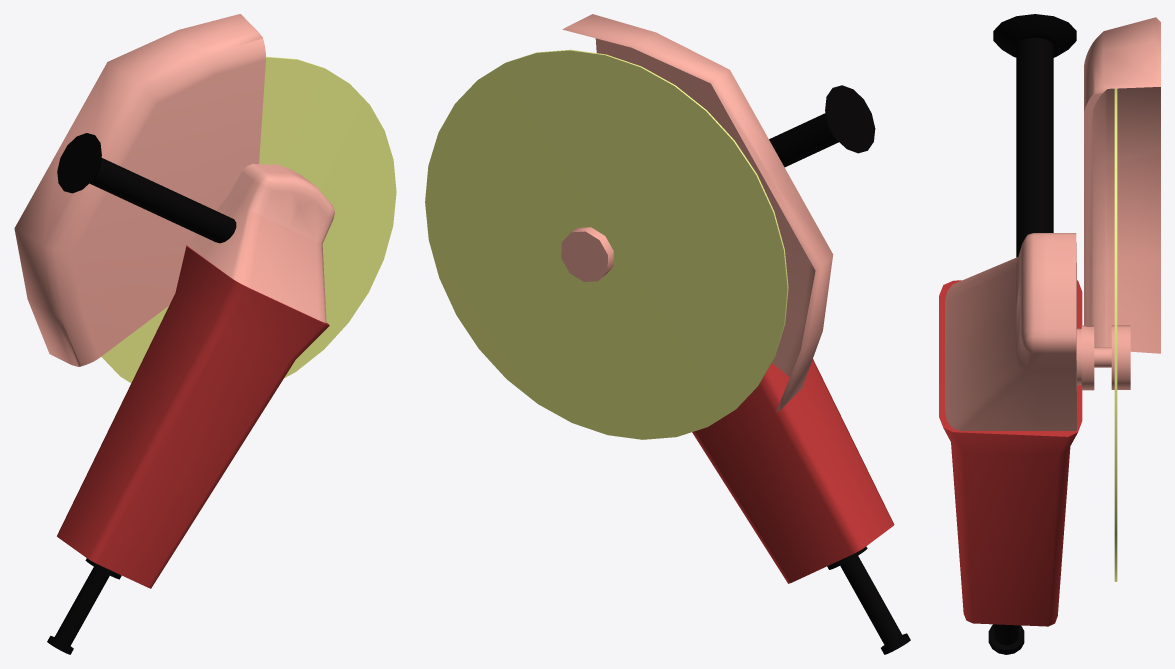
File: kesme mak animasyonlu.fbx
The picture shows the model from 3 angles, left to right: view 1: azimuth 30°, elevation 25°; view 2: azimuth 150°, elevation 25°; view 3: azimuth 270°, elevation 25°; orthographic projection. The views are drawn at different scales.
Visible parts, largest first — view 1: kesme makine.003; view 2: kesme makine.003; view 3: kesme makine.003.
Boxes of the visible parts, x1,y1,x2,y2 form: kesme makine.003: (14, 14, 396, 654); kesme makine.003: (425, 14, 910, 654); kesme makine.003: (939, 14, 1160, 654).
Bounding box in the file's own units: 115 × 154 × 42.95.
